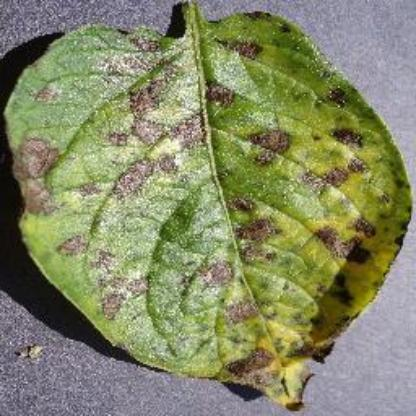Early-Blight: (7, 3, 409, 411)
